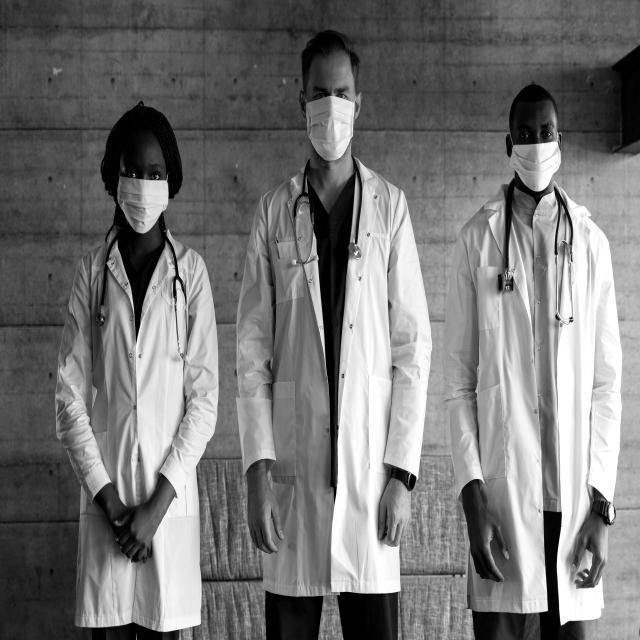No-Vest: (462, 188, 603, 512), (260, 183, 401, 492), (74, 239, 195, 519)
